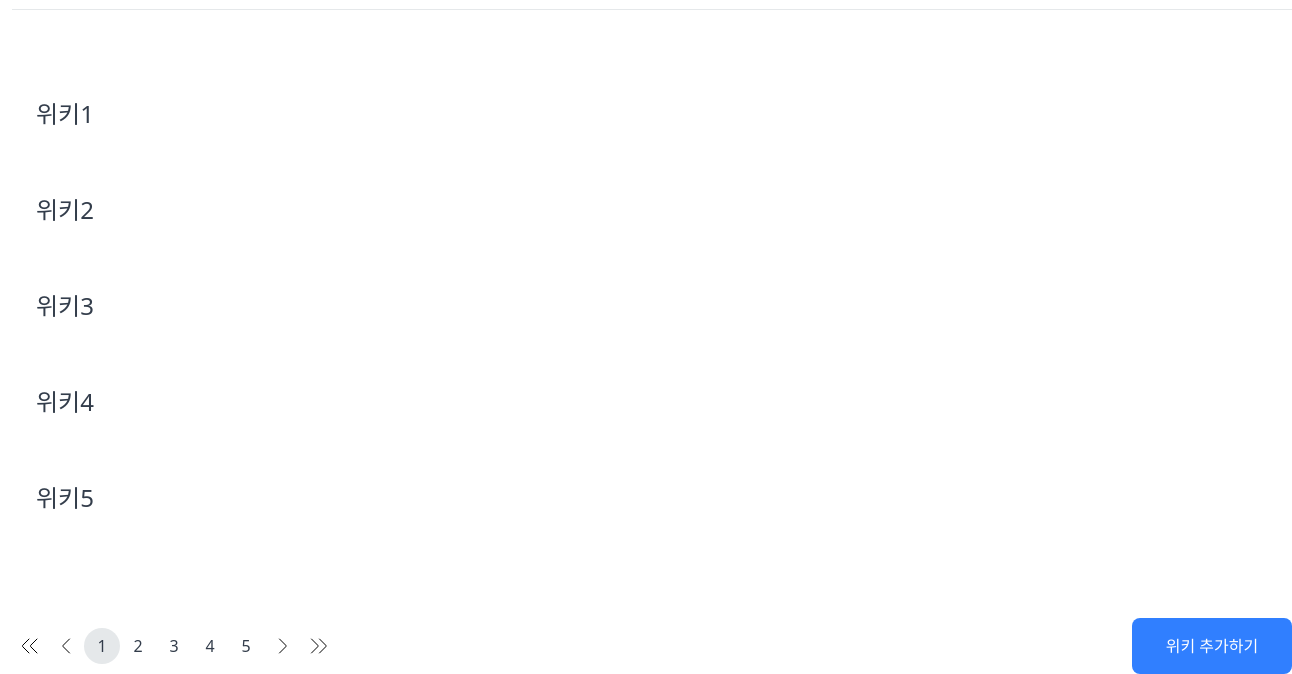
Scenario: Board 페이지 테스트 › wikiList 길이 51 › 이전 그룹 페이지 이동 버튼을 클릭하면 이전 그룹 페이지의 첫 번째 페이지로 이동한다
This screenshot has width=1292, height=674.
(page scrolled)
Click the 9th button.
click(318, 646)  # box x1=300 y1=628 x2=336 y2=664
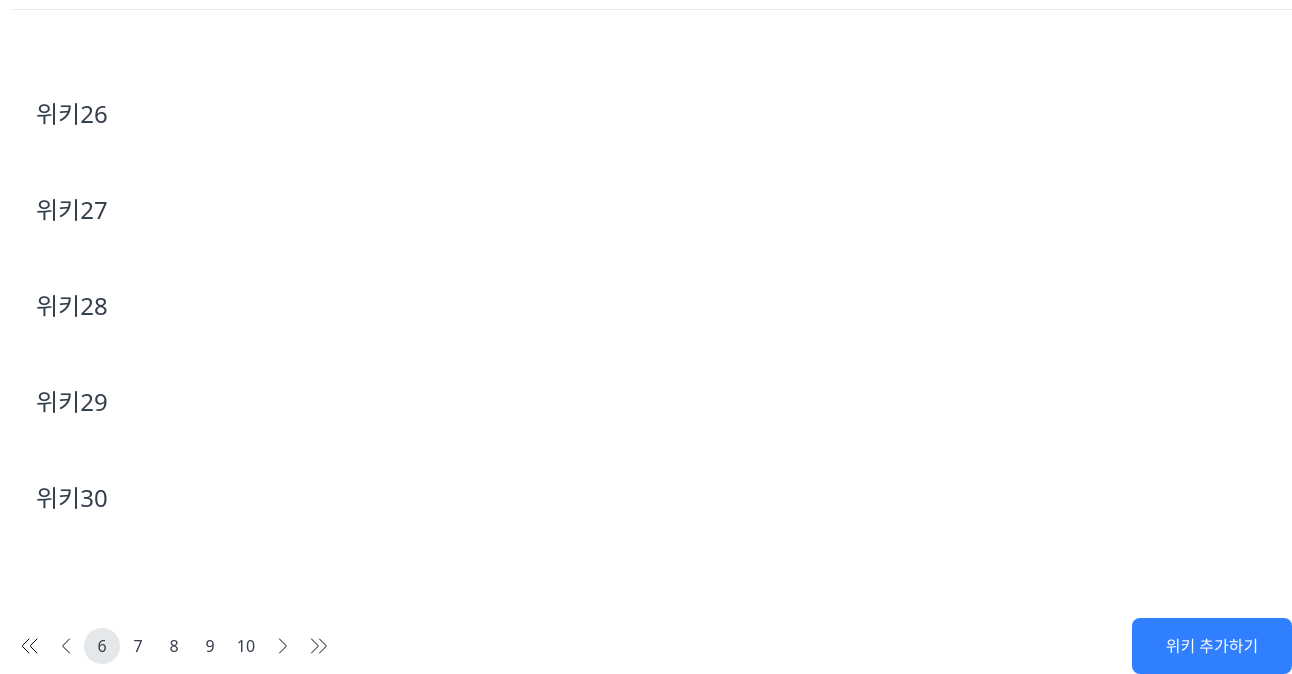
Click the 1st button.
click(30, 646)  # box x1=12 y1=628 x2=48 y2=664
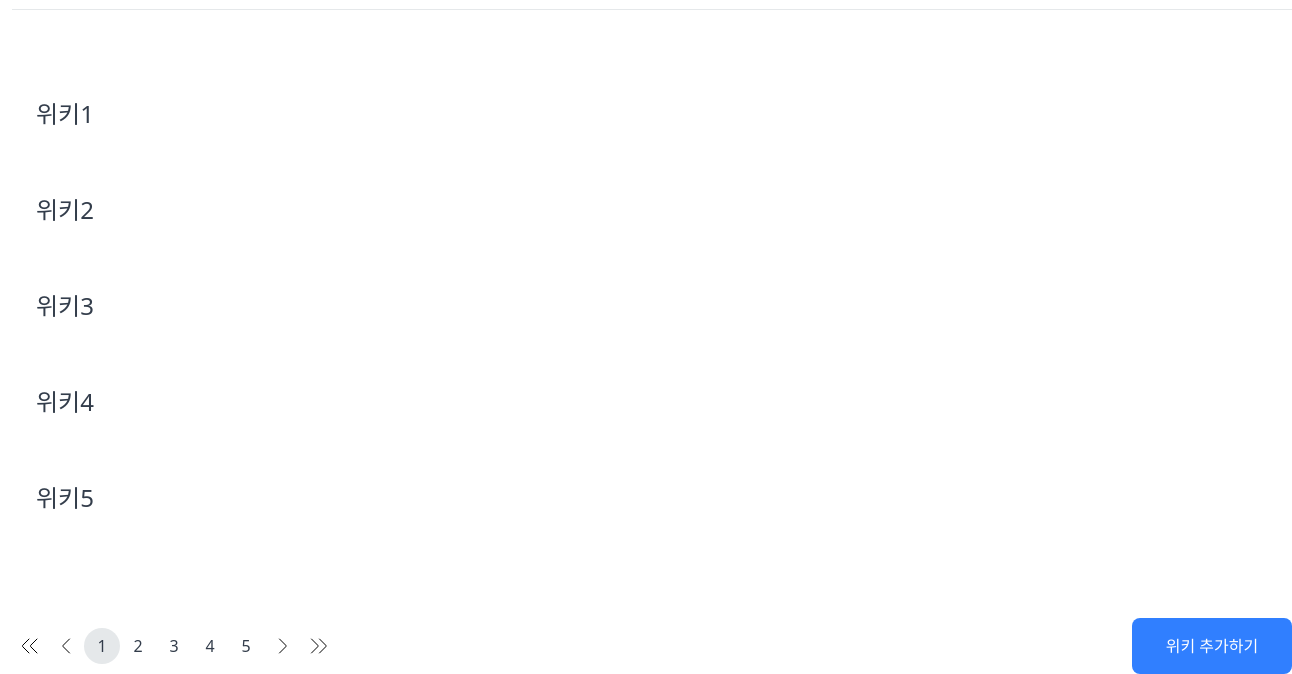
Result: the link "위키1" is shown at x1=36 y1=97 x2=94 y2=130
